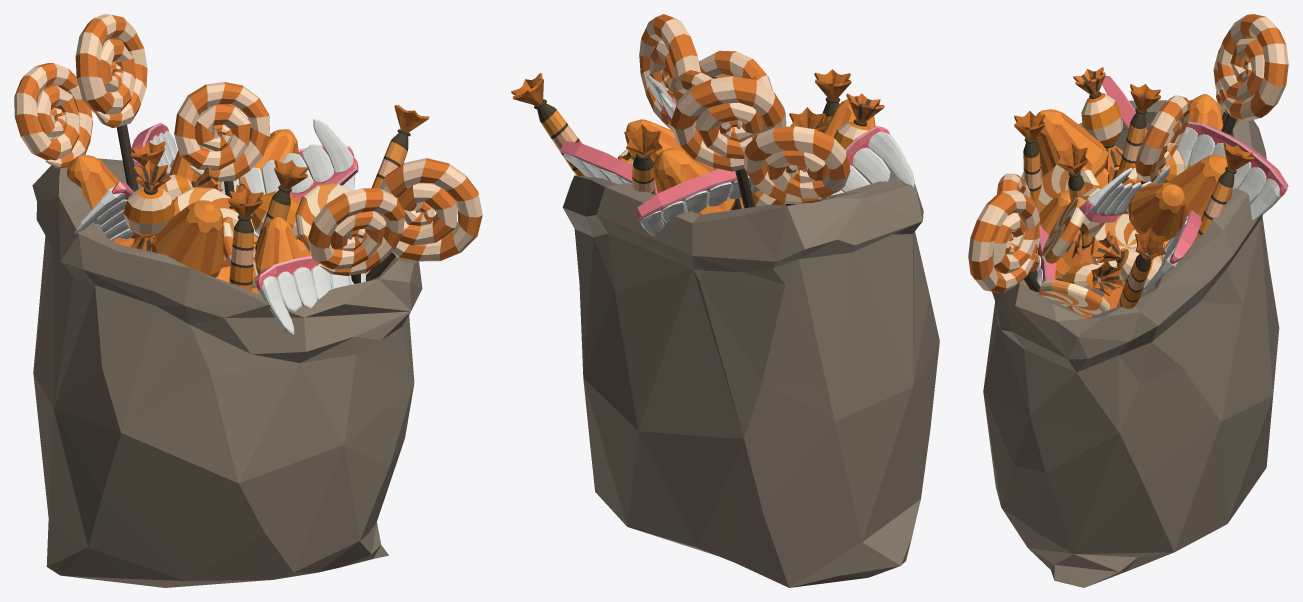
Rendered from WF_LP_HT_Props_CandyBag.001.fbx.
3 views of the same model, side by side, from view 1: azimuth 30°, elevation 25°; view 2: azimuth 150°, elevation 25°; view 3: azimuth 270°, elevation 25° (orthographic). The views are drawn at different scales.
Visible parts, largest first — view 1: WF_LP_HT_Props_SugarBag.001; view 2: WF_LP_HT_Props_SugarBag.001; view 3: WF_LP_HT_Props_SugarBag.001.
Boxes of the visible parts, x1,y1,x2,y2 form: WF_LP_HT_Props_SugarBag.001: (14, 14, 482, 587); WF_LP_HT_Props_SugarBag.001: (511, 14, 939, 587); WF_LP_HT_Props_SugarBag.001: (968, 14, 1288, 587).
Bounding box in the file's own units: 0.7117 × 0.9033 × 0.5439.
